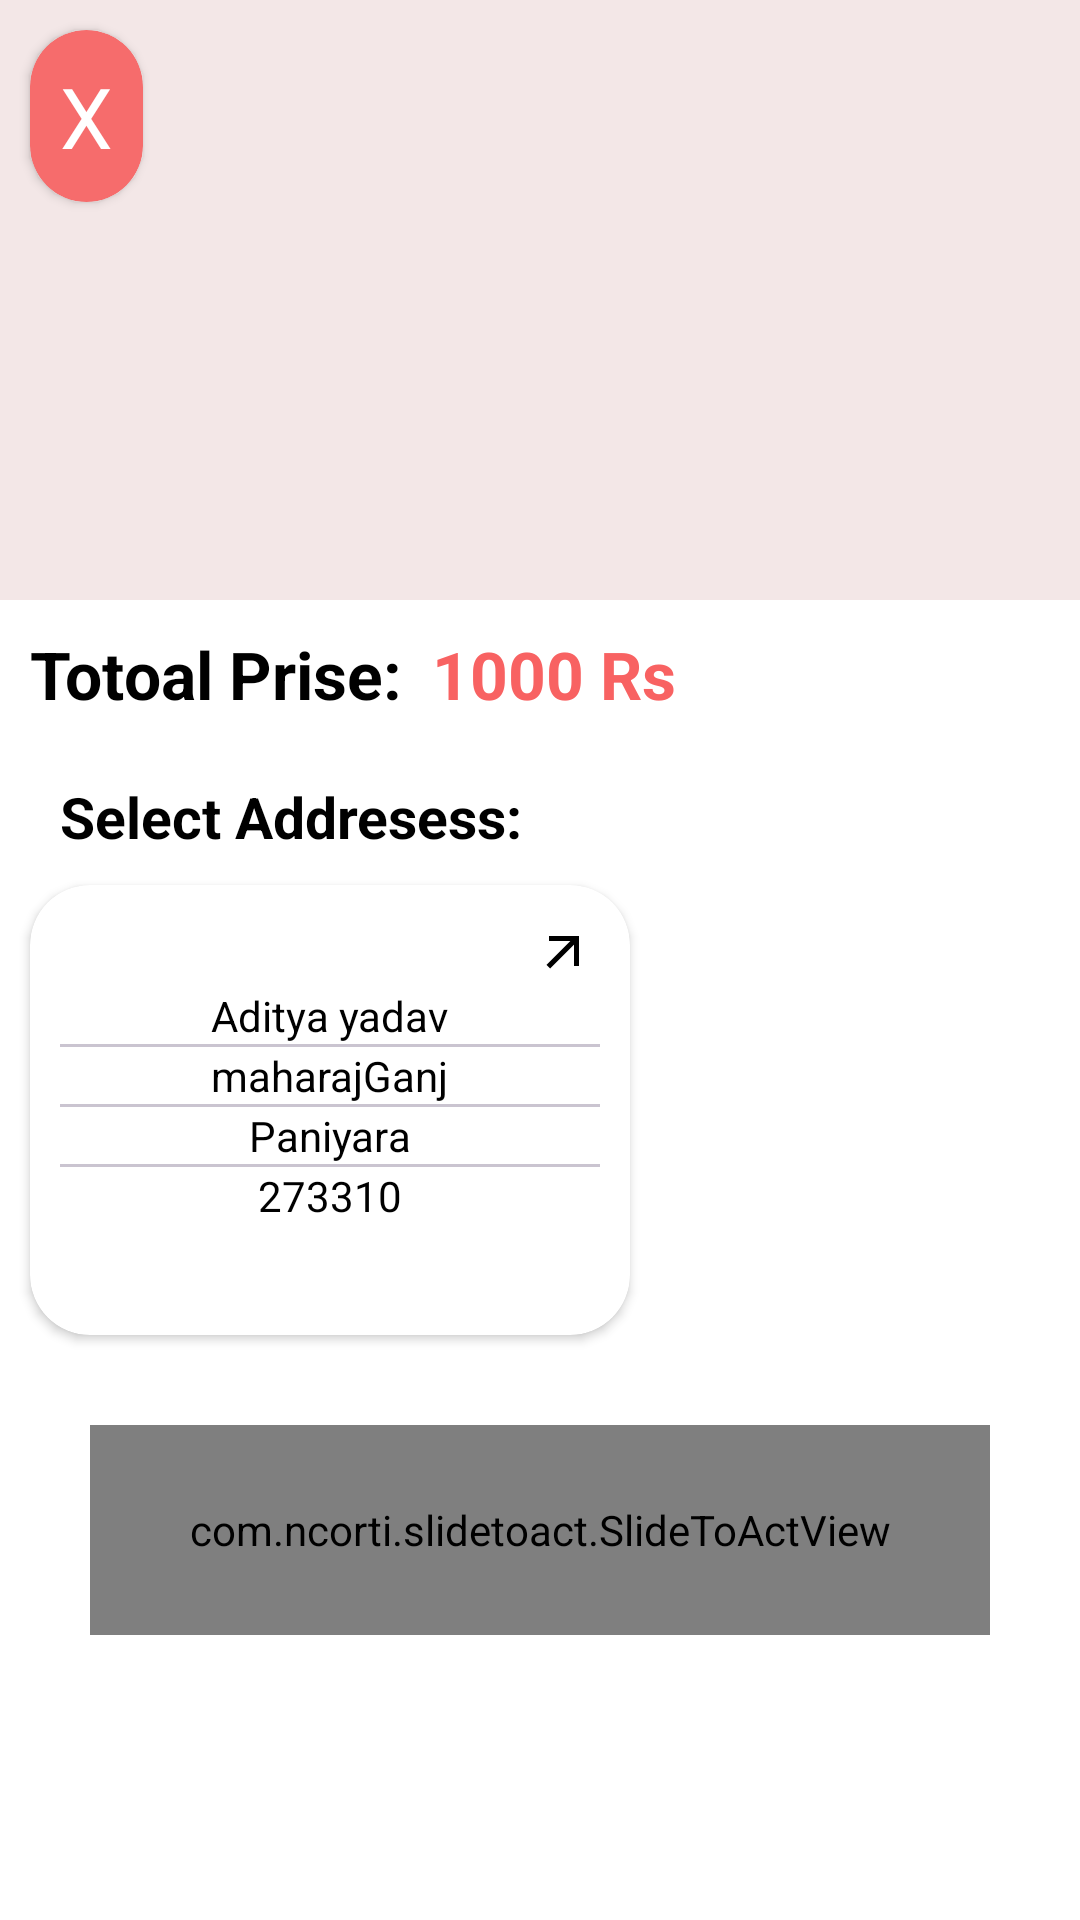

Icons on this 1080px×1920px Android screen, each with its box as [left=x1, top=y1, right=x2, bottom=y2]:
arrow outward: [left=546, top=936, right=579, bottom=969]
